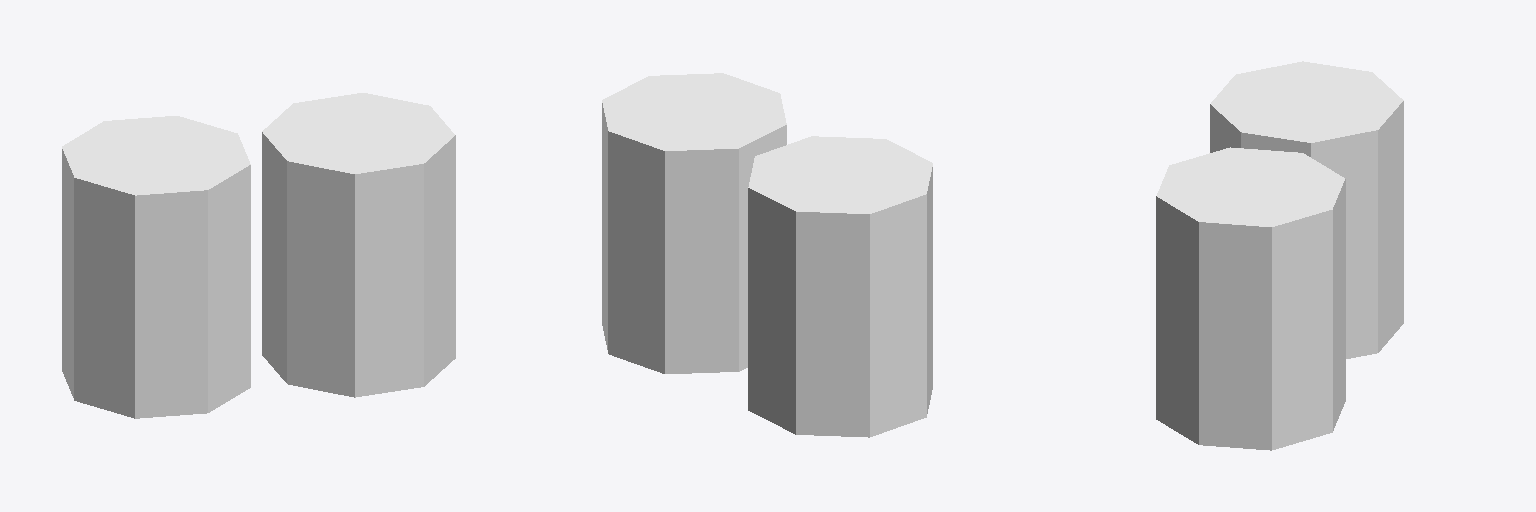
Rendered from assorted_metal_cans_2.obj.
3 renders of one model, left to right at view 1: azimuth 30°, elevation 25°; view 2: azimuth 150°, elevation 25°; view 3: azimuth 270°, elevation 25°, orthographic.
Parts seen in each view (by area): view 1: can_2, can_1; view 2: can_1, can_2; view 3: can_2, can_1.
Part boxes in pixels (x1,y1,x2,y2): can_2: (262,93,455,397); can_1: (62,116,250,418); can_1: (748,136,932,437); can_2: (602,73,786,373); can_2: (1156,147,1345,450); can_1: (1210,61,1403,358).
Bounding box in the file's own units: 0.5485 × 0.3438 × 0.3454.